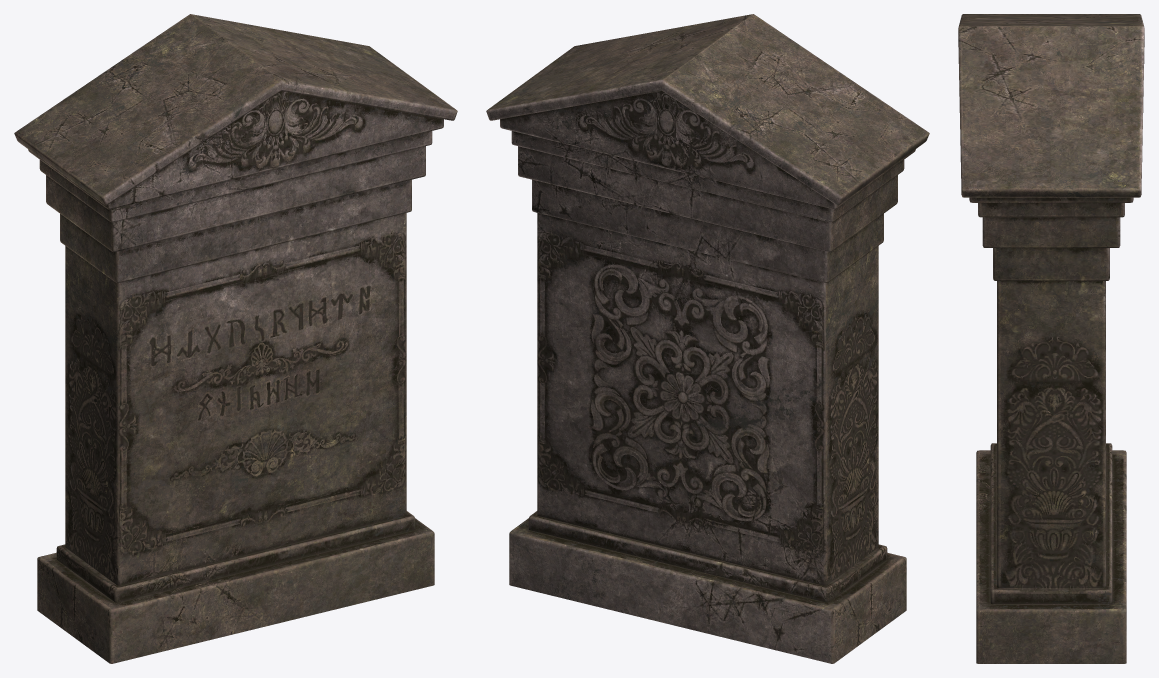
The model's file is SM_gravestone_38.fbx.
3 renders of one model, left to right at view 1: azimuth 30°, elevation 25°; view 2: azimuth 150°, elevation 25°; view 3: azimuth 270°, elevation 25°, orthographic.
Visible parts, largest first — view 1: SM_gravestone_038; view 2: SM_gravestone_038; view 3: SM_gravestone_038.
Part boxes in pixels (<box>): SM_gravestone_038: <box>14,14,457,663</box>; SM_gravestone_038: <box>486,14,929,663</box>; SM_gravestone_038: <box>958,14,1144,663</box>.
Bounding box in the file's own units: 77.99 × 115 × 34.96.
